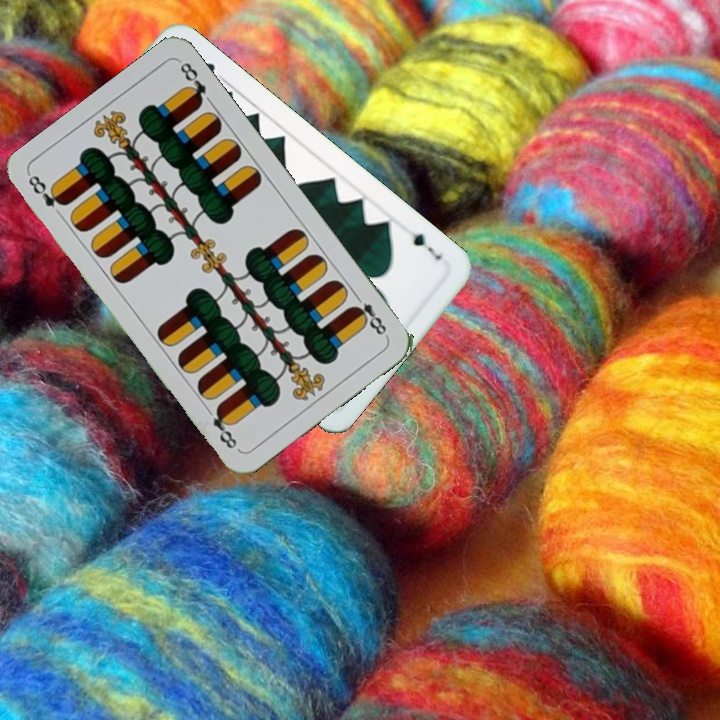E8: (24, 171, 69, 221), (347, 289, 391, 339)
G7: (408, 229, 445, 263)
